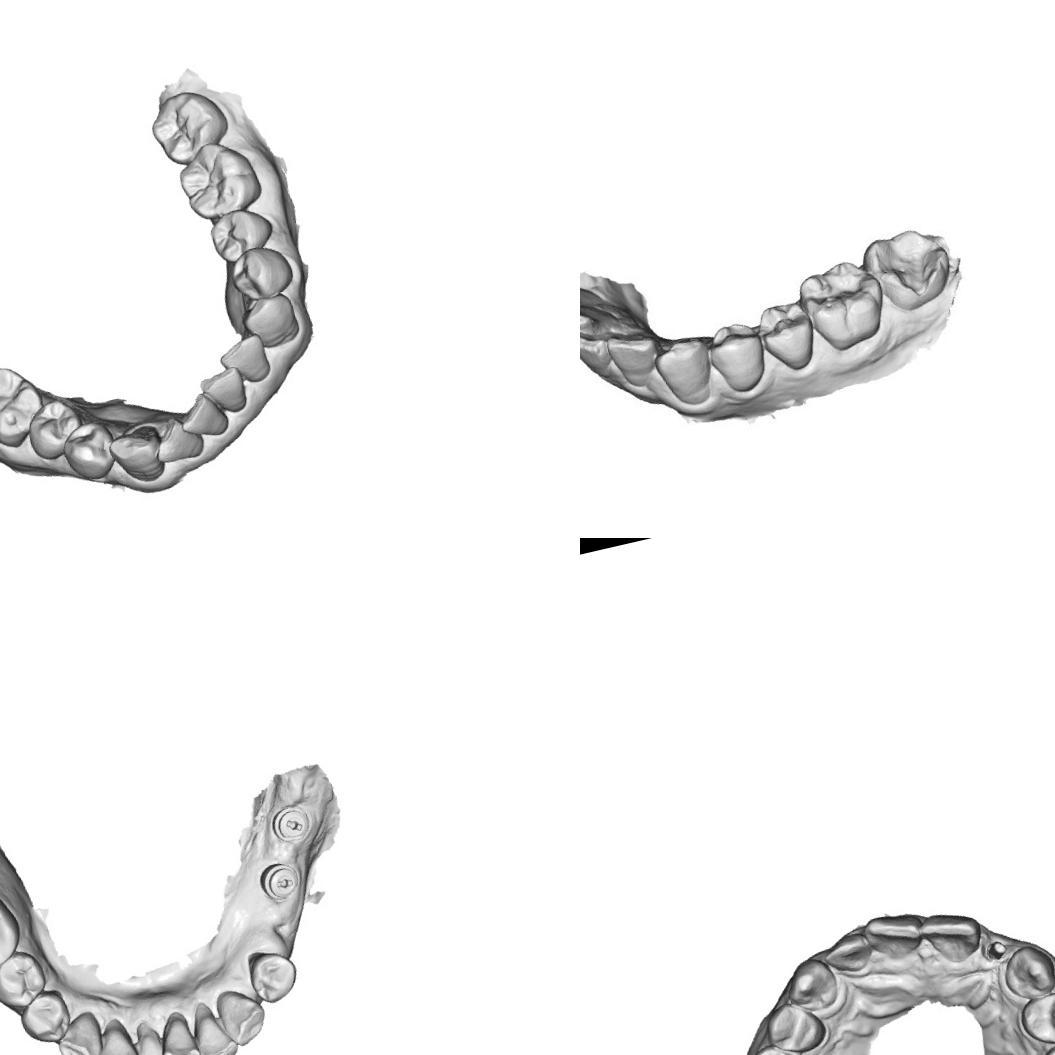canine: (653, 330, 719, 413), (103, 416, 173, 490), (234, 287, 304, 355), (778, 951, 843, 1019), (213, 982, 272, 1050), (996, 939, 1055, 1006), (51, 1007, 110, 1055)
implant_minus: (255, 858, 304, 904), (268, 801, 314, 846)
incisor: (916, 898, 990, 972), (860, 903, 930, 966), (213, 329, 275, 392), (172, 386, 232, 446), (147, 410, 208, 469), (816, 924, 878, 982), (184, 994, 242, 1055), (195, 361, 253, 421), (607, 325, 659, 388), (85, 1013, 145, 1055), (150, 1008, 203, 1055), (122, 1014, 177, 1055), (580, 321, 613, 375), (580, 290, 600, 335)
molar: (169, 131, 268, 228), (795, 256, 890, 356), (865, 222, 960, 316), (141, 80, 237, 172), (0, 358, 52, 458), (0, 882, 28, 979)
premolar: (754, 296, 824, 378), (701, 316, 771, 398), (222, 238, 298, 308), (20, 392, 89, 466), (203, 201, 279, 267), (55, 414, 122, 488), (756, 991, 832, 1055), (15, 986, 76, 1049), (244, 944, 303, 1006), (0, 945, 51, 1014), (1014, 981, 1055, 1051), (742, 1035, 811, 1055)
